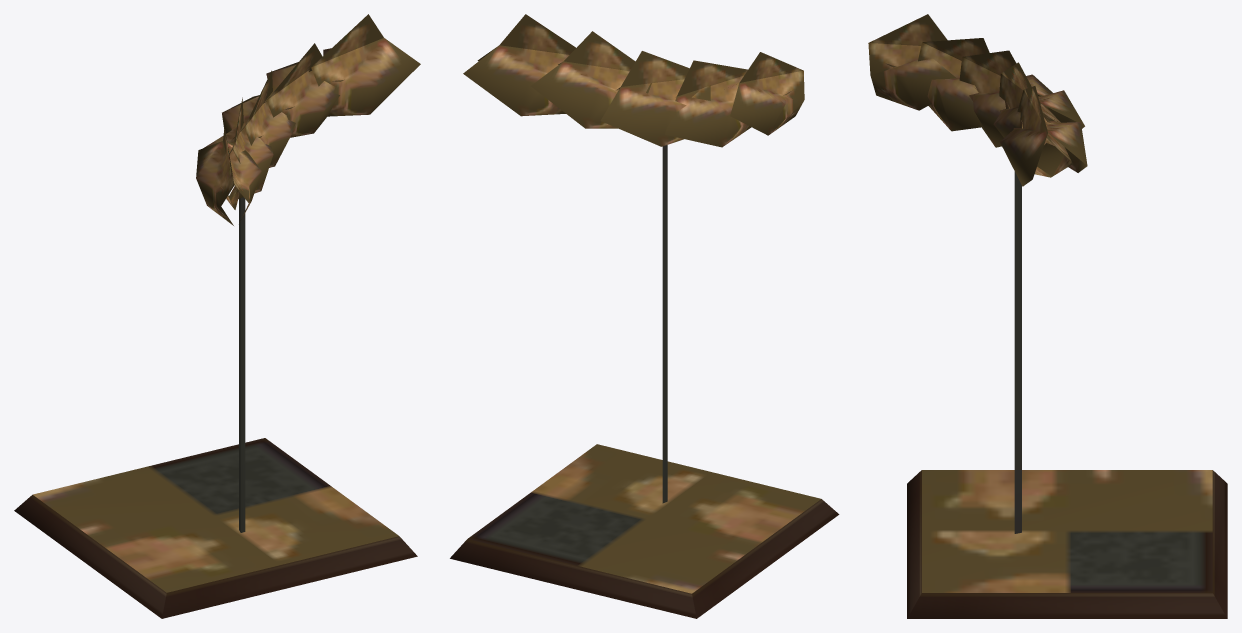
Rendered from int_din_sei_a.dae.
3 views of the same model, side by side, from view 1: azimuth 30°, elevation 25°; view 2: azimuth 150°, elevation 25°; view 3: azimuth 270°, elevation 25° (orthographic). The views are drawn at different scales.
Visible parts, largest first — view 1: int_din_sei_a; view 2: int_din_sei_a; view 3: int_din_sei_a.
Part boxes in pixels (box(x1,y1,x2,y2)): int_din_sei_a: box(14, 14, 420, 618); int_din_sei_a: box(450, 14, 839, 618); int_din_sei_a: box(868, 14, 1227, 618).
Size of the model in its own units: 72.6 by 109 by 65.73.
1 material, 1 textured.
